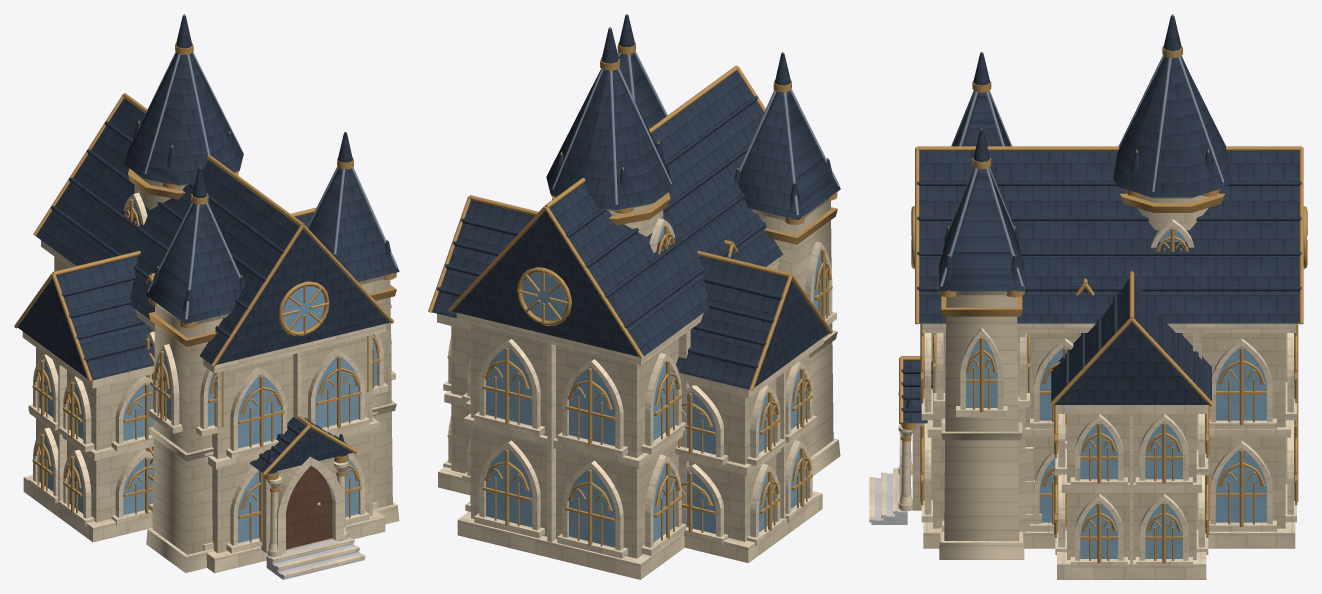
The model's file is angelic-cathedral.glb.
3 renders of one model, left to right at view 1: azimuth 30°, elevation 25°; view 2: azimuth 150°, elevation 25°; view 3: azimuth 270°, elevation 25°, orthographic. The views are drawn at different scales.
Size of the model in its own units: 6.75 by 9.65 by 7.83.
9 materials, 9 textured.
